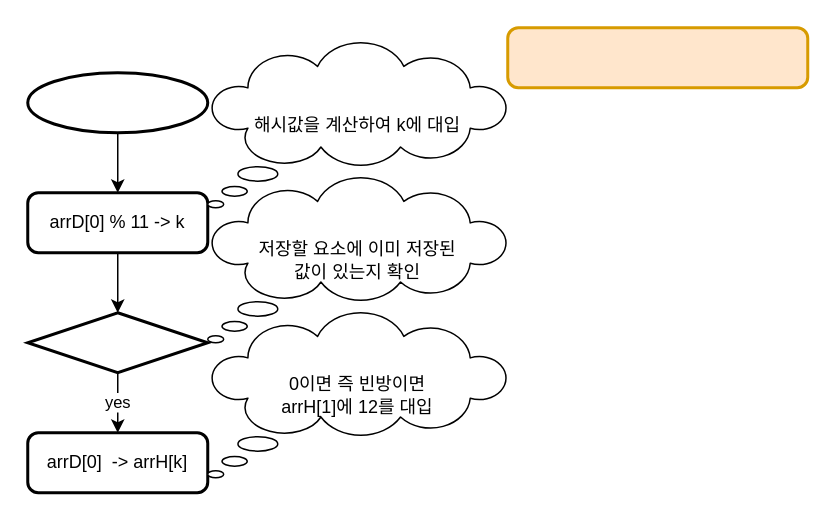
This 834x519 diagram has some shape labels left out. Each missing label, with the centre of its shape:
arrH[k] = 0: point 117,342
Hash Search: point 657,57
Start: point 117,102
